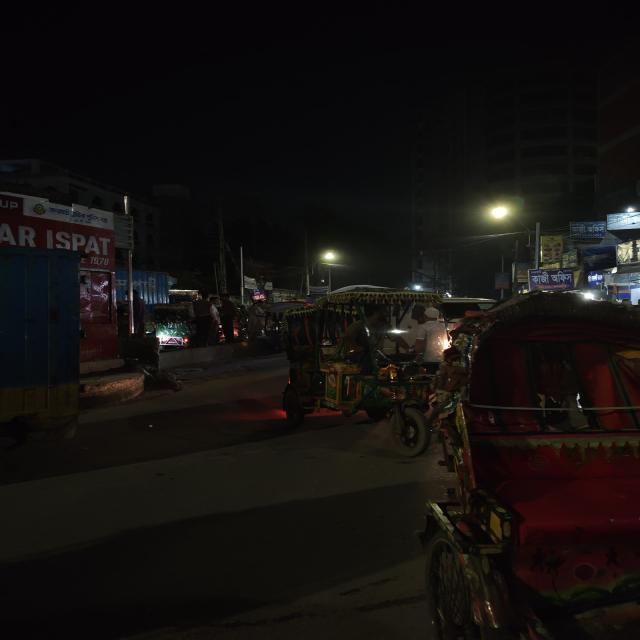rickshaw: (411, 289, 640, 640), (267, 280, 463, 454), (145, 301, 202, 349)
